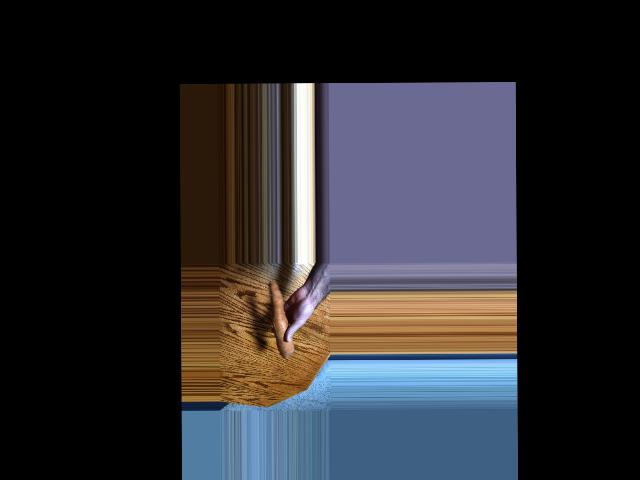sweet_potato: (272, 281, 287, 357)
